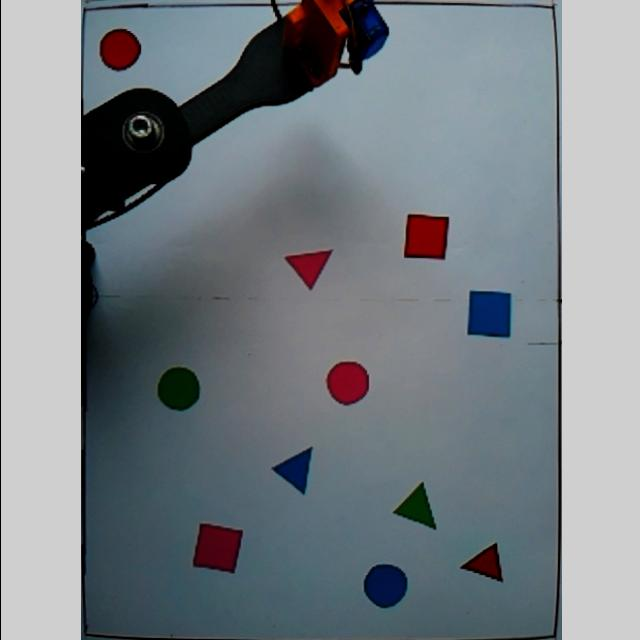blueCircle: (357, 562, 407, 610)
blueSquare: (459, 288, 513, 342)
blueTriangle: (268, 444, 314, 498)
greenCircle: (151, 365, 199, 415)
greenTriangle: (388, 480, 442, 534)
pinkCircle: (322, 358, 368, 408)
pinkSquare: (188, 520, 242, 576)
pinkTriangle: (282, 245, 334, 292)
redCircle: (92, 26, 144, 74)
redSquare: (397, 214, 449, 262)
redTriangle: (457, 542, 503, 584)
